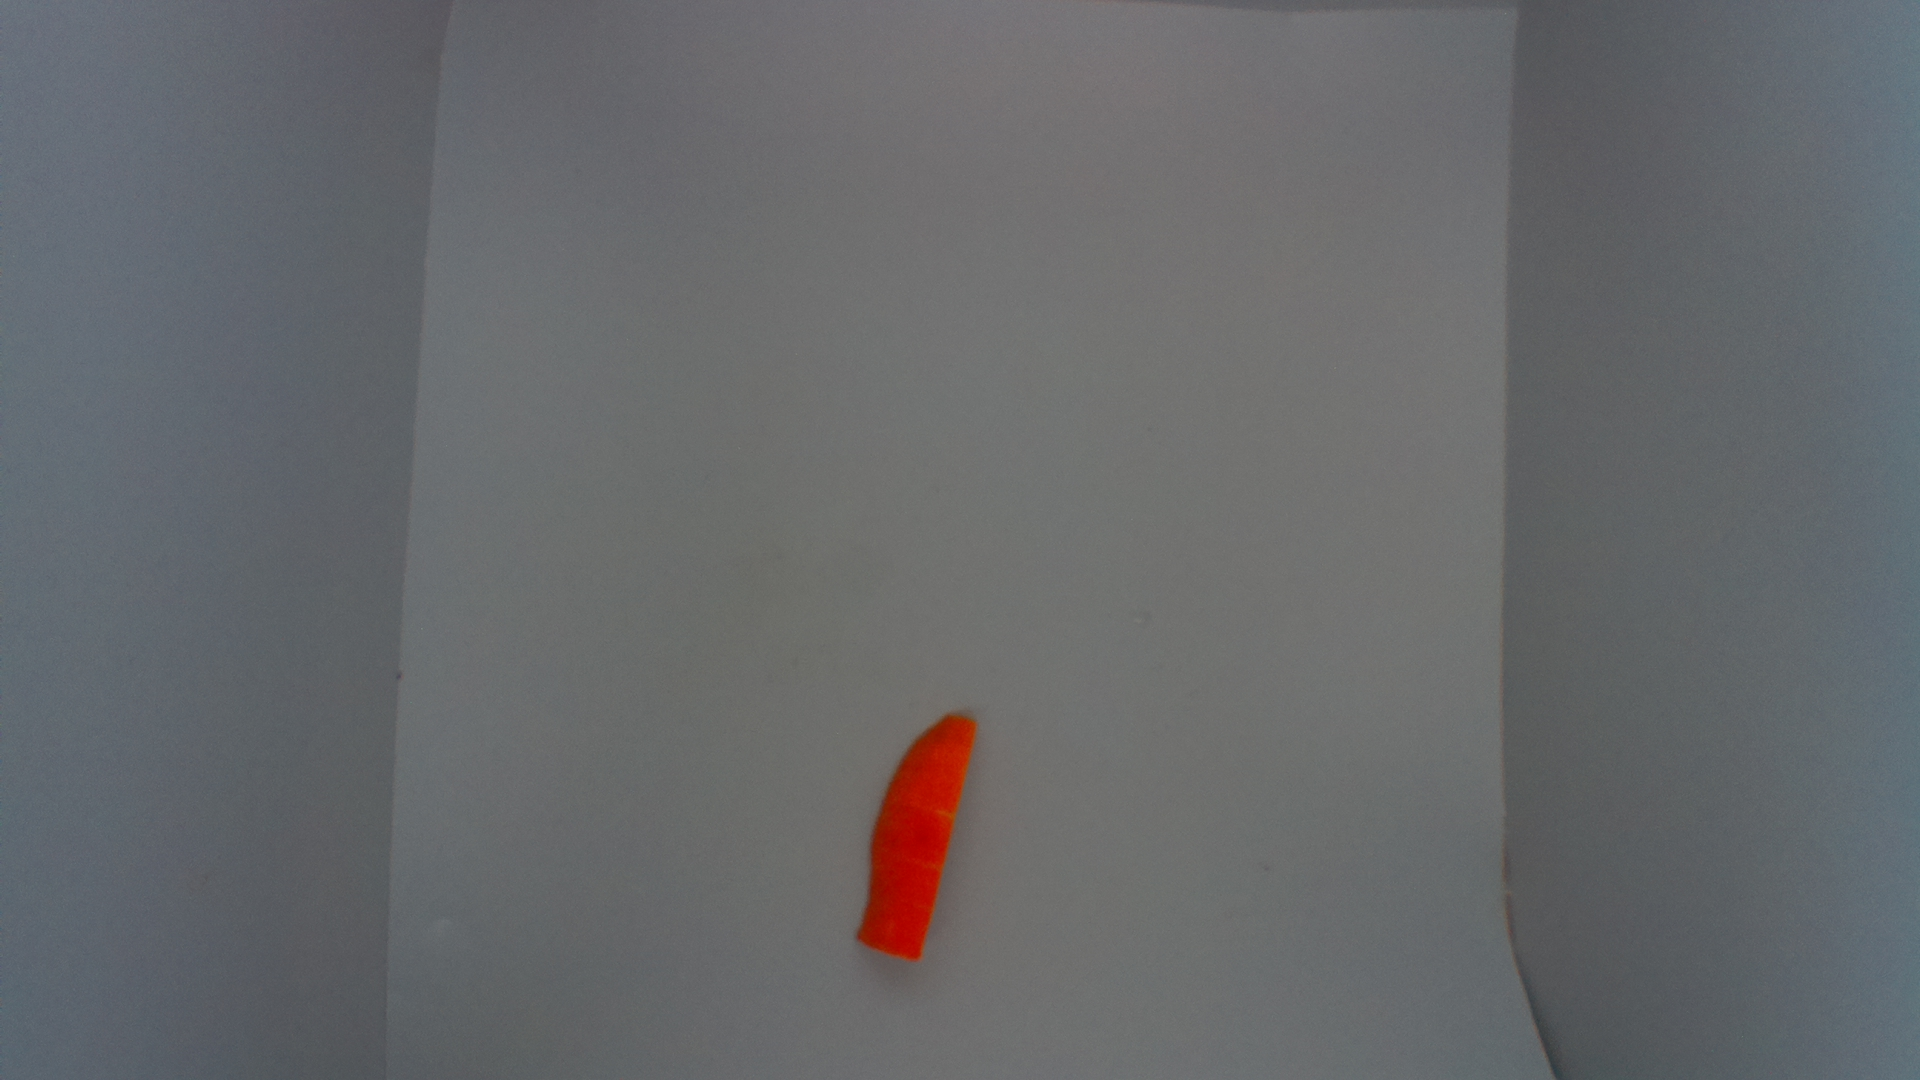carrot: (855, 711, 980, 967)
